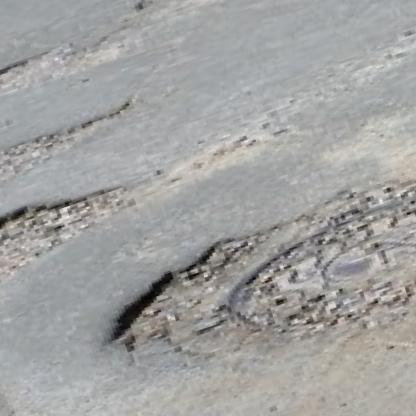pothole: (92, 217, 320, 373), (0, 167, 147, 318), (0, 97, 144, 228), (0, 19, 142, 141), (132, 0, 240, 36)
